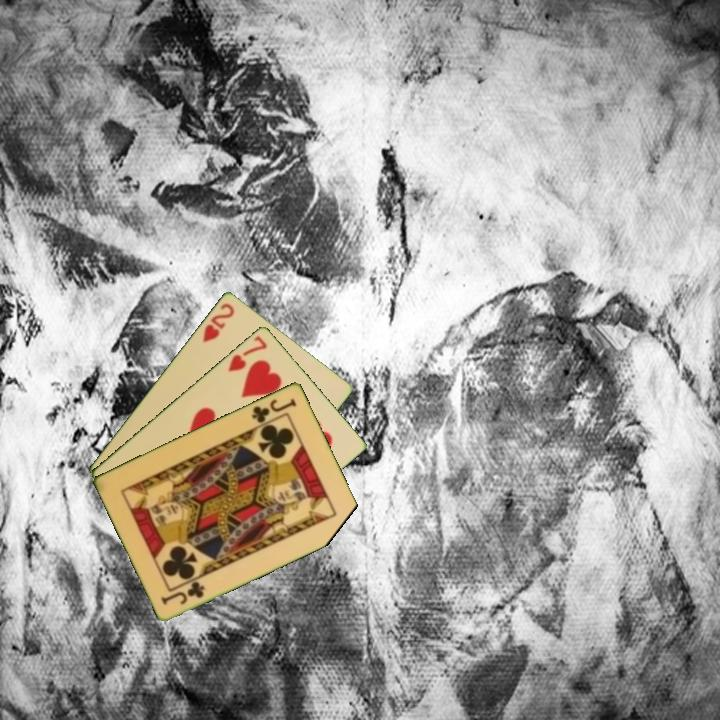2h: (199, 299, 237, 345)
7h: (224, 332, 270, 375)
Jc: (248, 395, 299, 426), (158, 578, 208, 607)
